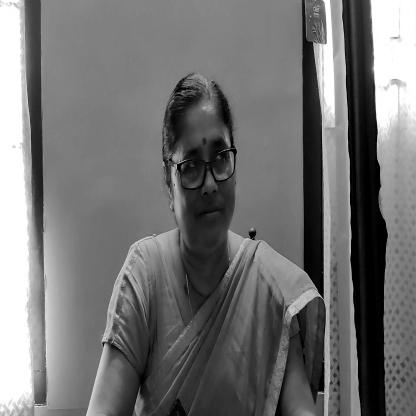Normal: (160, 76, 240, 254)
